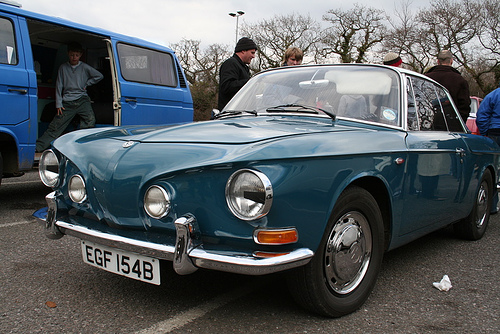without_mask: (235, 36, 257, 64), (283, 47, 303, 68), (67, 47, 83, 65)
